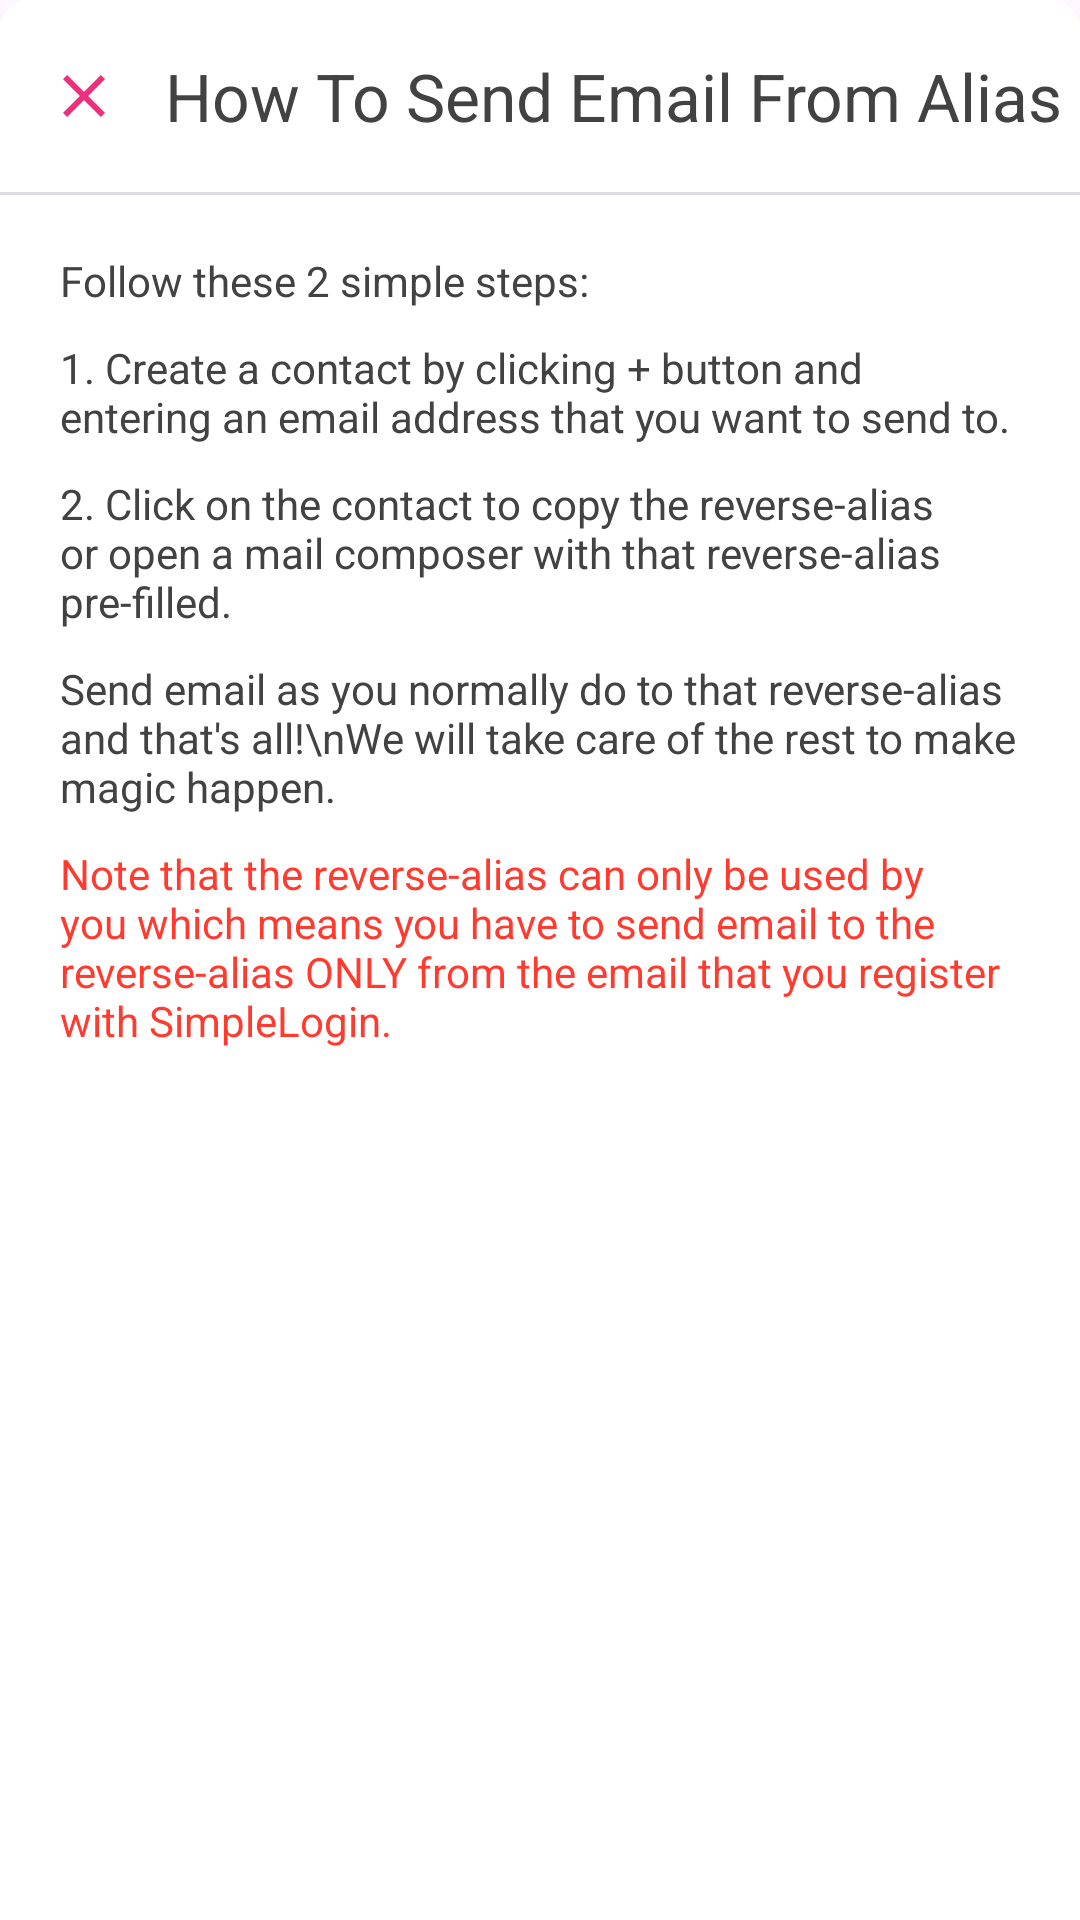

Icon click points for this 1080px×1920px phone screenshot, format (x,y):
close: (84,96)
